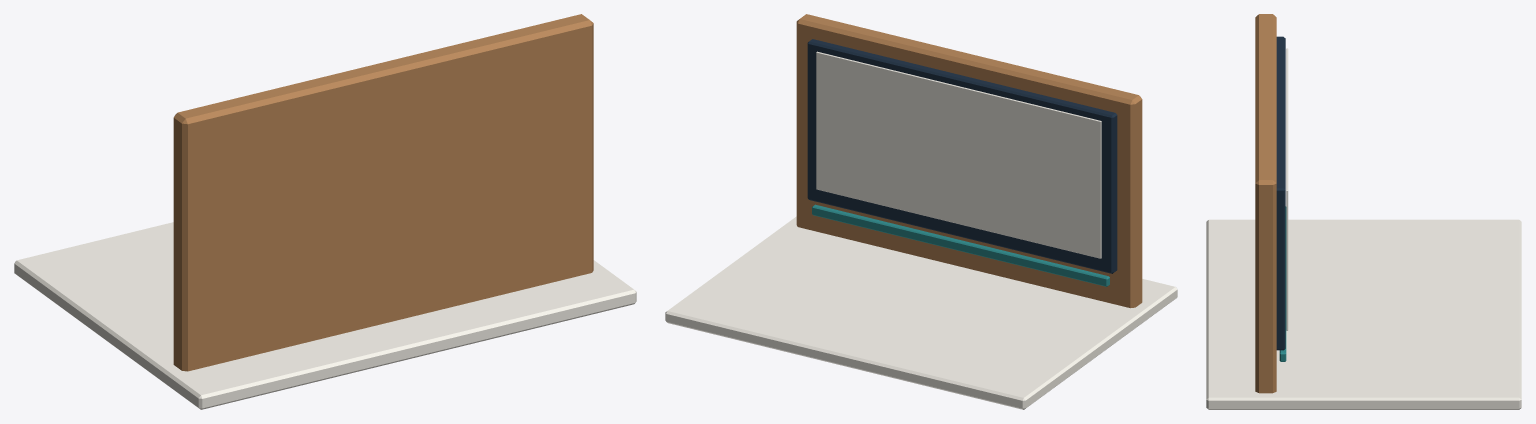
The model's file is SM_ProjectStand.obj.
3 views of the same model, side by side, from view 1: azimuth 30°, elevation 25°; view 2: azimuth 150°, elevation 25°; view 3: azimuth 270°, elevation 25° (orthographic). The views are drawn at different scales.
Parts seen in each view (by area): view 1: SM_ProjectStand; view 2: SM_ProjectStand; view 3: SM_ProjectStand.
Boxes of the visible parts, x1,y1,x2,y2 form: SM_ProjectStand: (14,14,636,409); SM_ProjectStand: (665,14,1177,409); SM_ProjectStand: (1206,14,1521,409).
Size of the model in its own units: 5 by 2.9 by 3.7.
